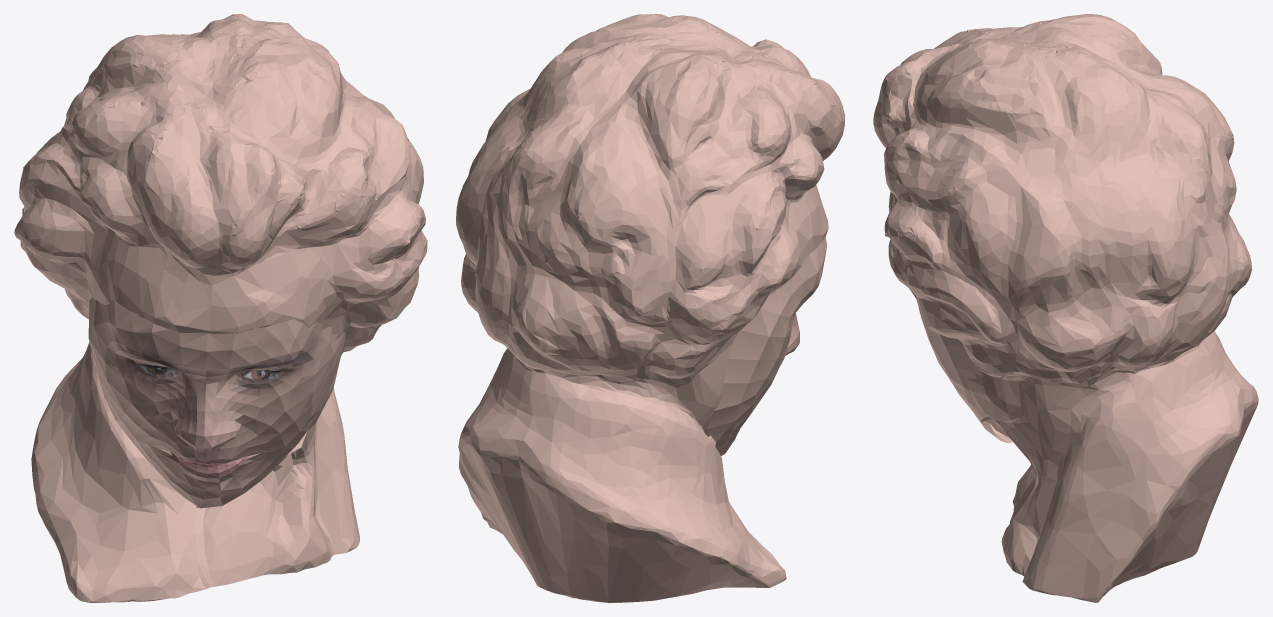
File: Meetoven.glb
The picture shows the model from 3 angles, left to right: view 1: azimuth 30°, elevation 25°; view 2: azimuth 150°, elevation 25°; view 3: azimuth 270°, elevation 25°; orthographic projection. The views are drawn at different scales.
Parts seen in each view (by area): view 1: copy, copyf; view 2: copy, copyf; view 3: copy, copyf.
Boxes of the visible parts, left/top/right/bottom form: copy: left=14, top=14, right=427, bottom=602; copyf: left=88, top=297, right=345, bottom=508; copy: left=456, top=14, right=844, bottom=602; copyf: left=706, top=237, right=826, bottom=455; copy: left=873, top=14, right=1258, bottom=602; copyf: left=909, top=288, right=1012, bottom=443.
Size of the model in its own units: 8.31 by 12 by 8.48.
Materials: 2 (1 with a texture image).
